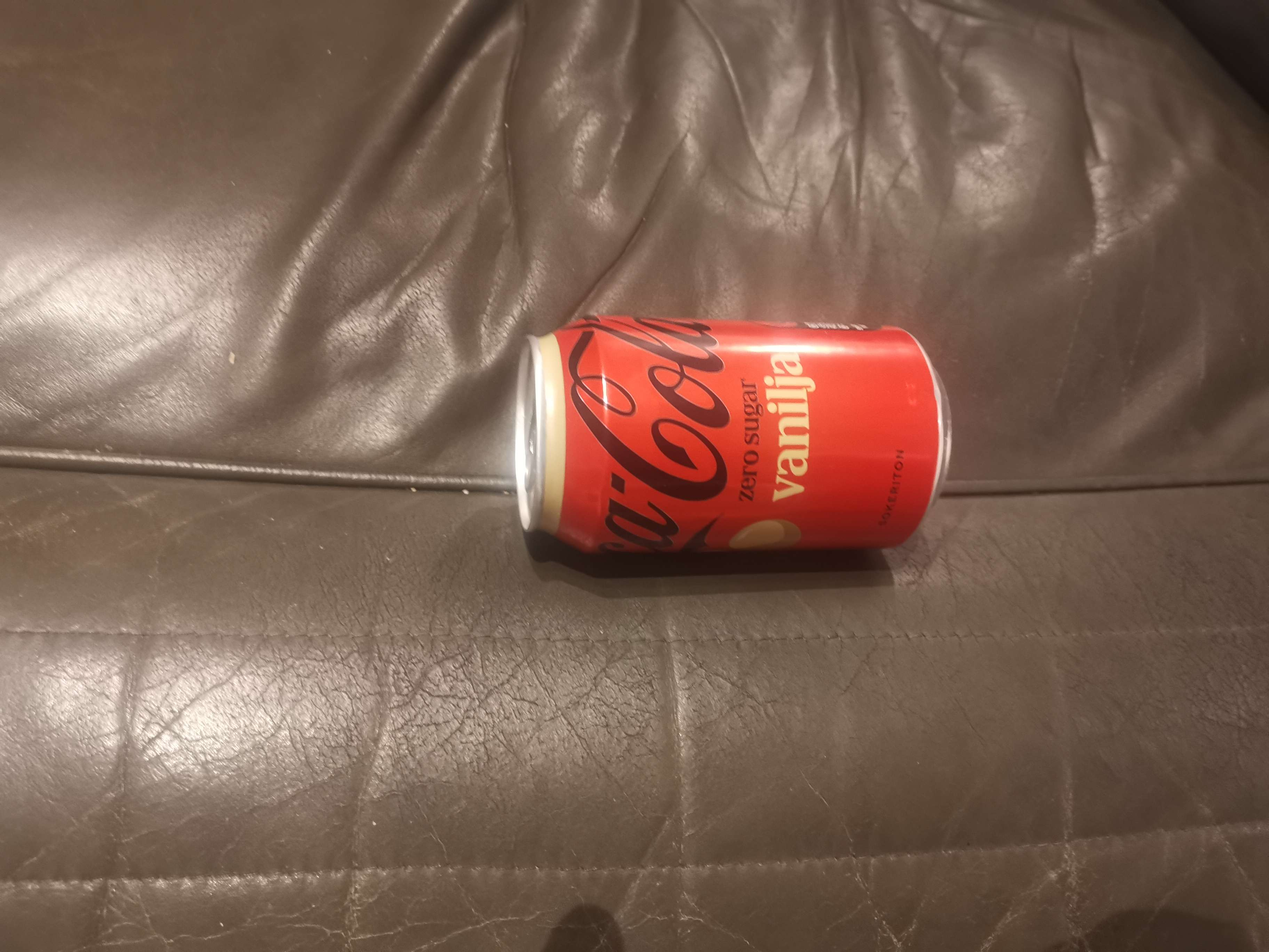Pantburk: (512, 314, 953, 557)
